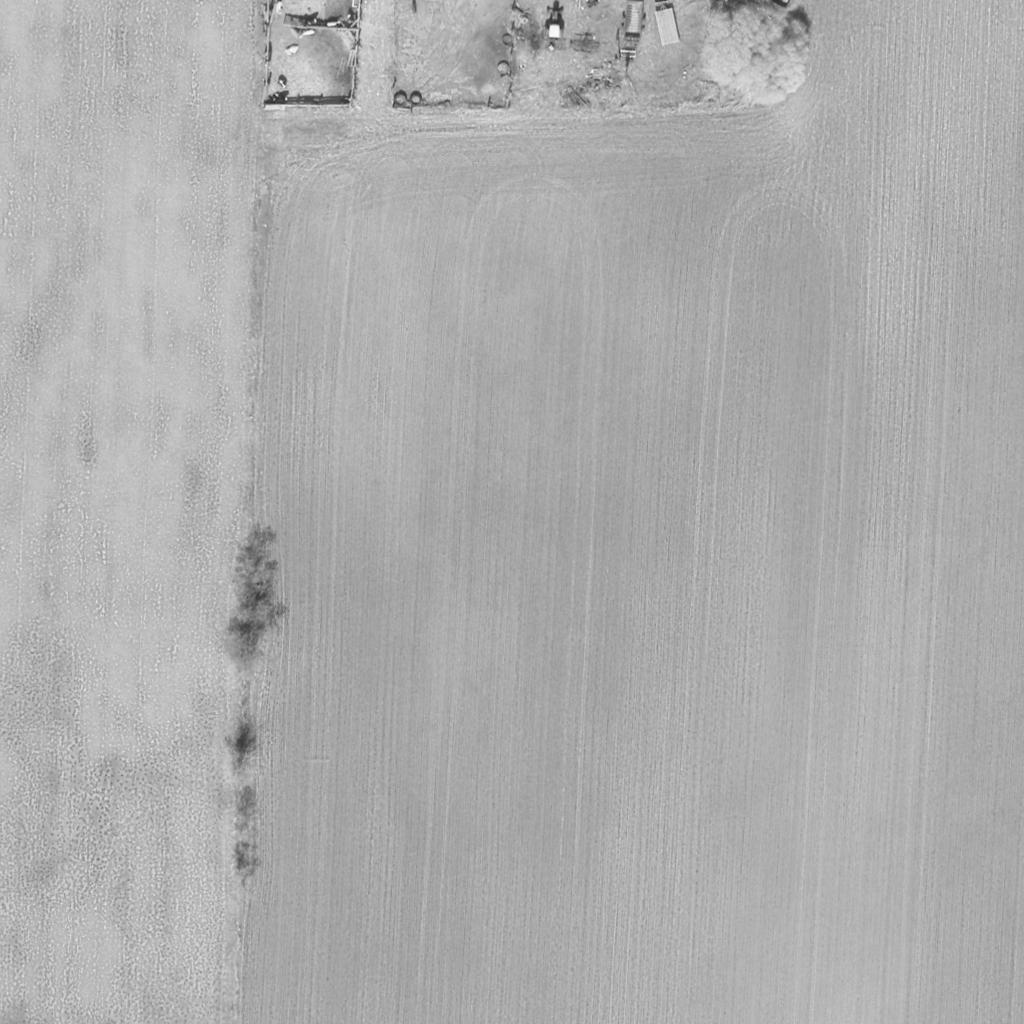vehicle: (545, 4, 569, 40)
